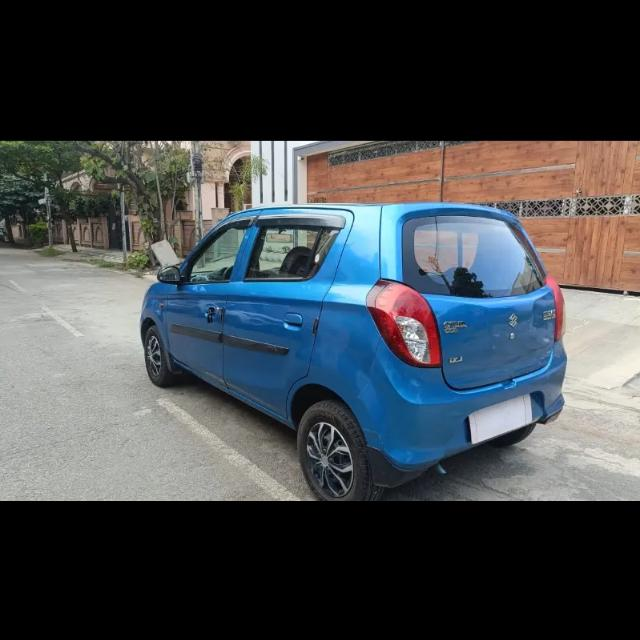number-plate: (470, 392, 537, 443)
vehicles: (137, 201, 564, 500)
